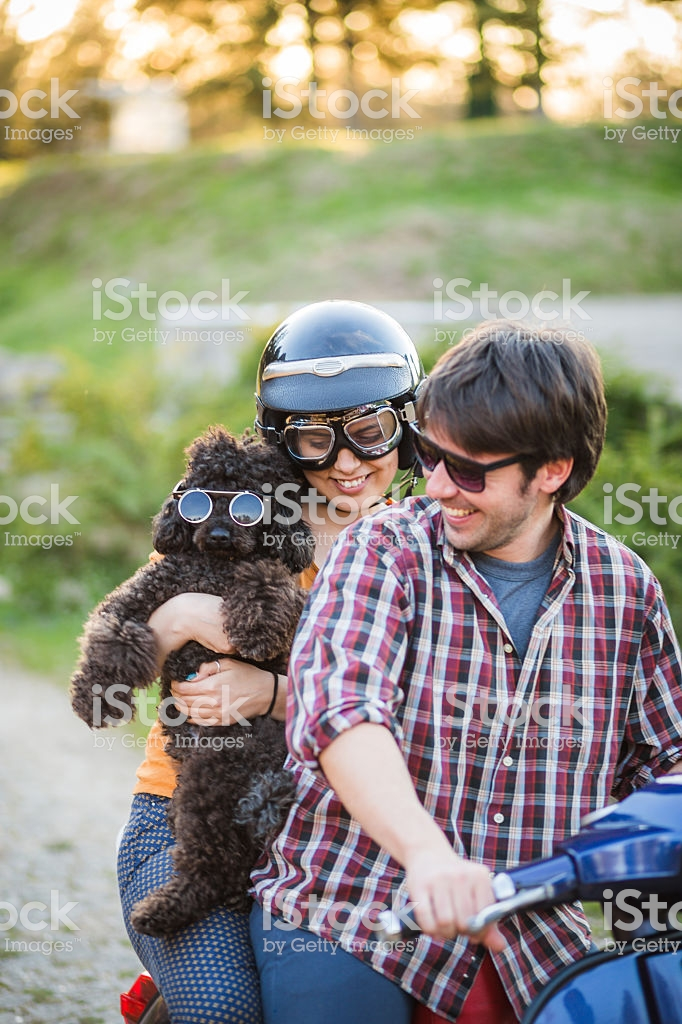helmet: (246, 304, 424, 421)
